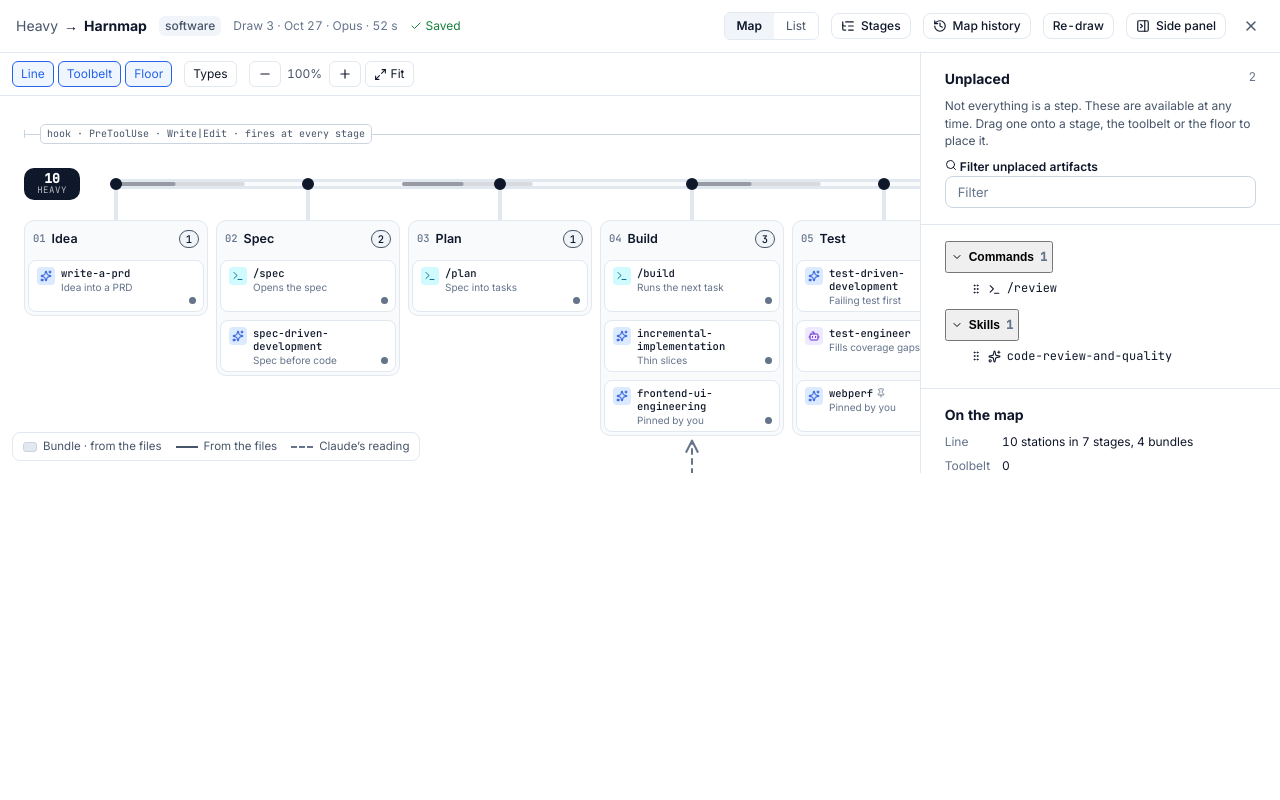
Scenario: Harnmap screen: unplaced and placing › shows a refused edit as a toast and keeps the popover
Click the list item with aria-label "Place /review": click(1032, 288) [961, 273, 1272, 305]
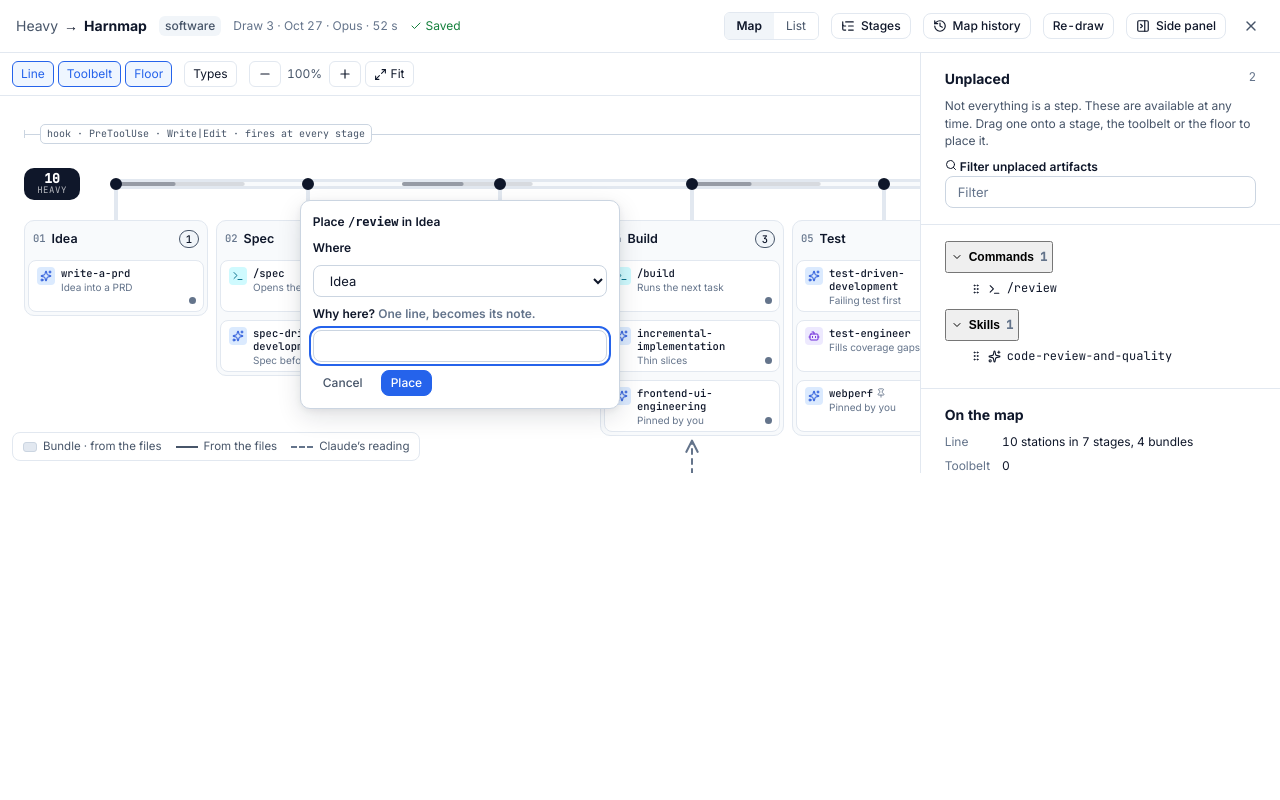
Click the button "Place": click(406, 383) [381, 370, 432, 396]
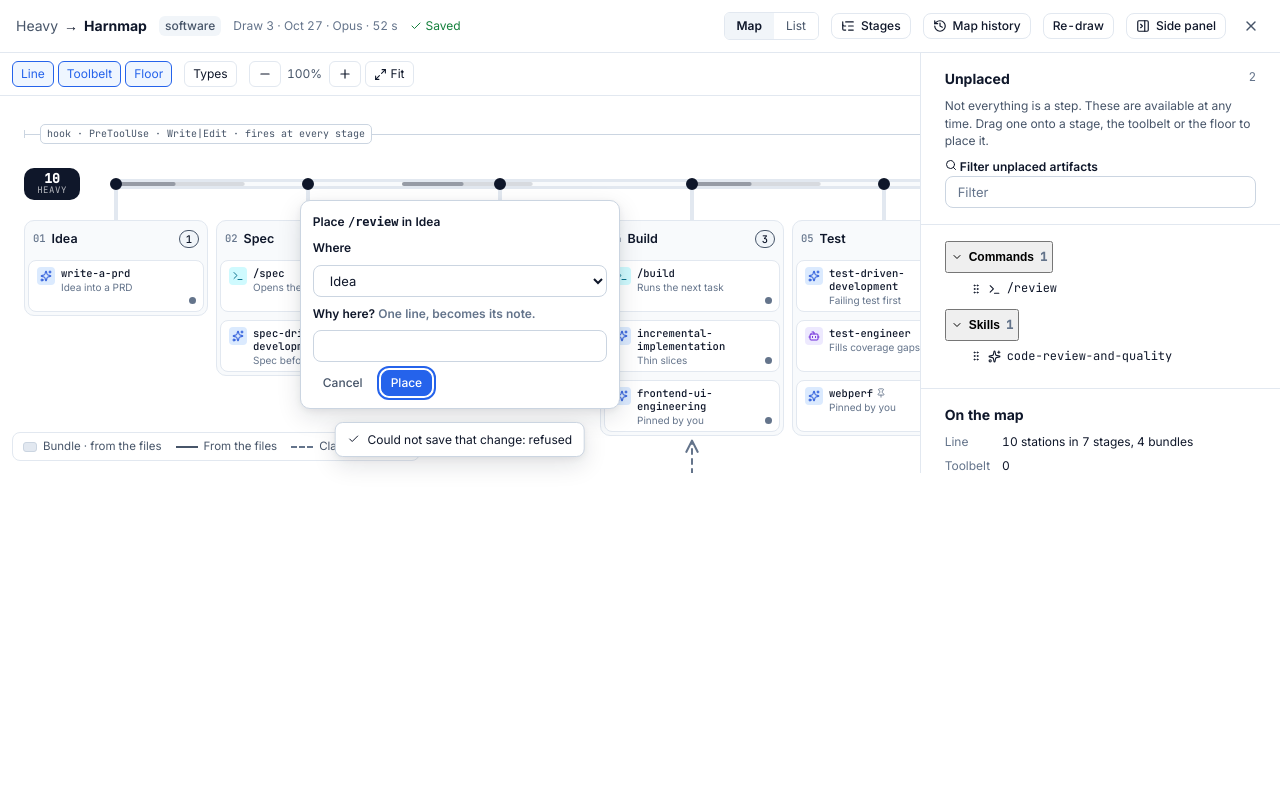
expect the dialog "Why here?" is shown: met, box [300, 200, 620, 409]
expect the text "Could not save that change: refused" is shown: met, box [334, 422, 585, 457]
